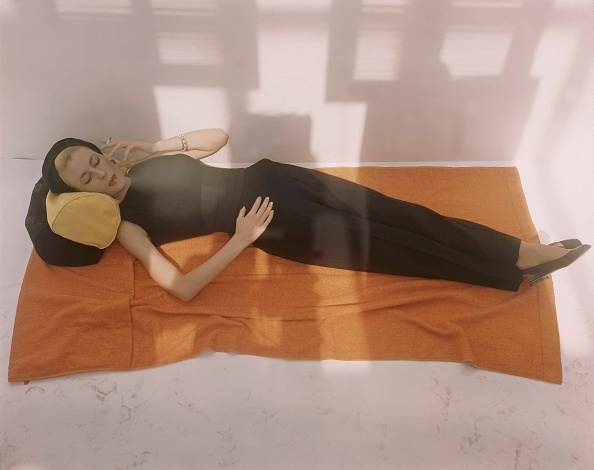deitado: (22, 110, 396, 279)
